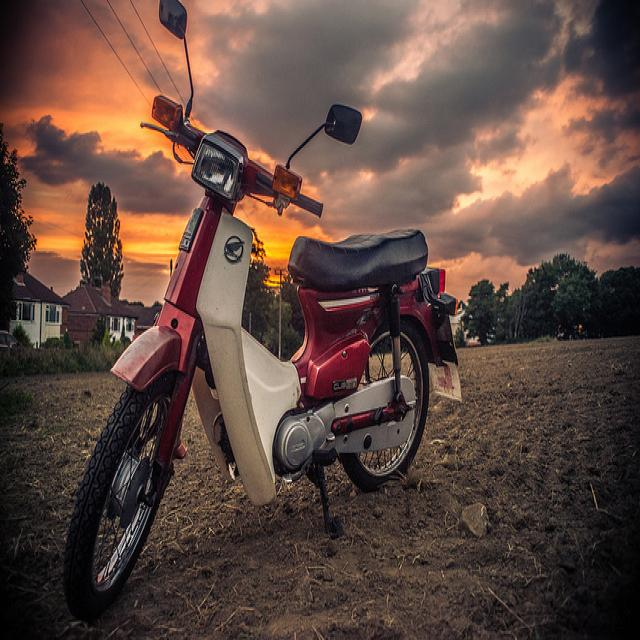motor: (61, 2, 469, 623)
